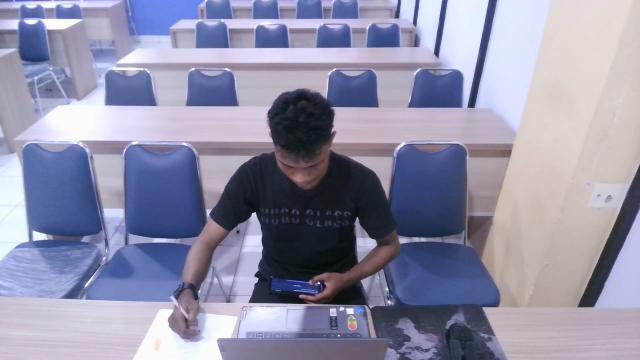Head_Down_Extreme: (198, 81, 411, 326)
Mobile_Phone: (264, 270, 329, 301)
